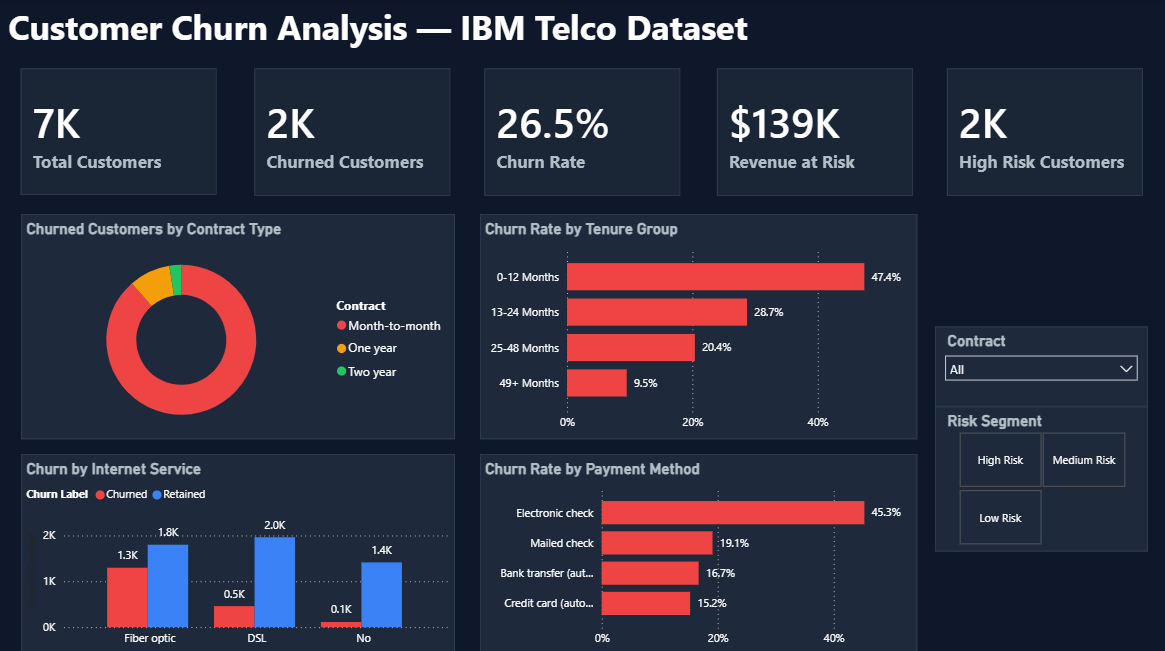

What the dashboard file says about the page in this screenshot:
{"tool":"powerbi","page":{"name":"Page 1","canvas":[1280,720],"ordinal":0},"visuals":[{"type":"textbox","box":[4.1,0,1270.7,98.8],"z":0},{"type":"cardVisual","fields":{"Data":["churn_dashboard_data.Total Customers"]},"box":[17.8,71.4,225,149.6],"z":1},{"type":"cardVisual","fields":{"Data":["churn_dashboard_data.Churned Customers"]},"box":[274.4,71.4,225,150.9],"z":2},{"type":"cardVisual","fields":{"Data":["churn_dashboard_data.Churn Rate"]},"box":[526.9,71.4,225,150.9],"z":3},{"type":"cardVisual","fields":{"Data":["churn_dashboard_data.Revenue at Risk"]},"box":[782.2,71.4,225,150.9],"z":6},{"type":"cardVisual","fields":{"Data":["churn_dashboard_data.High Risk Customers"]},"box":[1034.7,71.4,225,150.9],"z":7},{"type":"donutChart","title":"Churned Customers by Contract Type","fields":{"Category":["churn_dashboard_data.Contract"],"Y":["CountNonNull(churn_dashboard_data.Contract)"]},"box":[23.3,236,476.2,247],"z":8},{"type":"clusteredBarChart","title":"Churn Rate by Tenure Group","fields":{"Category":["churn_dashboard_data.TenureGroup"],"Y":["churn_dashboard_data.Churn Rate"]},"box":[526.9,236,480.3,247],"z":9},{"type":"slicer","fields":{"Values":["churn_dashboard_data.Contract"]},"box":[1026.4,359.5,233.3,87.8],"z":10},{"type":"slicer","fields":{"Values":["churn_dashboard_data.RiskSegment"]},"box":[1026.4,447.3,233.3,159.2],"z":11},{"type":"clusteredColumnChart","title":"Churn by Internet Service","fields":{"Category":["churn_dashboard_data.InternetService"],"Series":["churn_dashboard_data.Churn_Label"],"Y":["CountNonNull(churn_dashboard_data.Contract)"]},"box":[23.3,499.5,476.2,220.9],"z":12},{"type":"clusteredBarChart","title":"Churn Rate by Payment Method","fields":{"Y":["churn_dashboard_data.Churn Rate"],"Category":["churn_dashboard_data.PaymentMethod"]},"box":[526.9,499.5,480.3,220.9],"z":13}]}

Visuals, with their boxes in screenshot pixels (x1, y1, x2, y2), scaled from the page's 1280x720 canvas onto the 1165x651 screenshot:
textbox: [4,0,1160,89]
cardVisual - churn_dashboard_data.Total Customers: [16,65,221,200]
cardVisual - churn_dashboard_data.Churned Customers: [250,65,455,201]
cardVisual - churn_dashboard_data.Churn Rate: [480,65,684,201]
cardVisual - churn_dashboard_data.Revenue at Risk: [712,65,917,201]
cardVisual - churn_dashboard_data.High Risk Customers: [942,65,1147,201]
"Churned Customers by Contract Type" donutChart: [21,213,455,437]
"Churn Rate by Tenure Group" clusteredBarChart: [480,213,917,437]
slicer - churn_dashboard_data.Contract: [934,325,1147,404]
slicer - churn_dashboard_data.RiskSegment: [934,404,1147,548]
"Churn by Internet Service" clusteredColumnChart: [21,452,455,650]
"Churn Rate by Payment Method" clusteredBarChart: [480,452,917,650]
